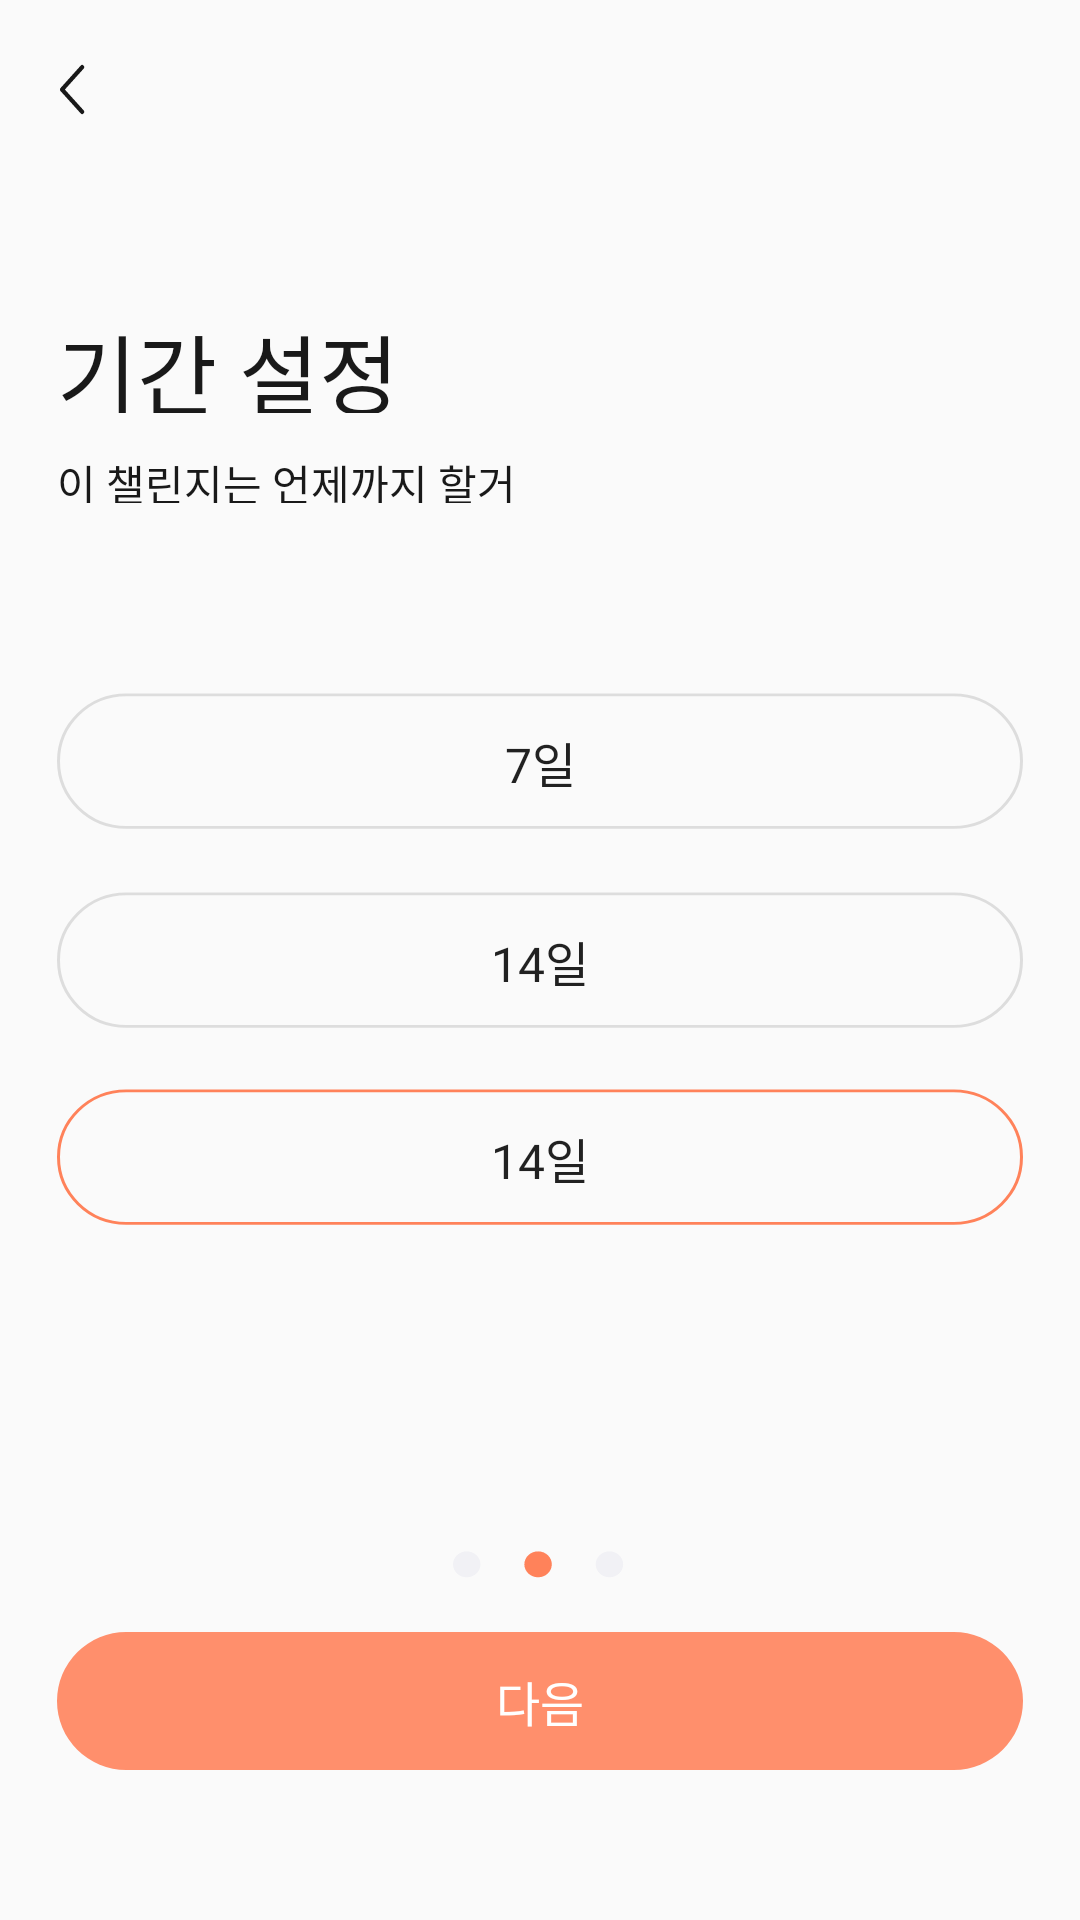

Icon bounding boxes for this 1080 x 1920 phone screenshot, format bbox(x1, y1, x2, y2):
back: bbox(60, 64, 85, 115)
dot: bbox(524, 1551, 552, 1578)
